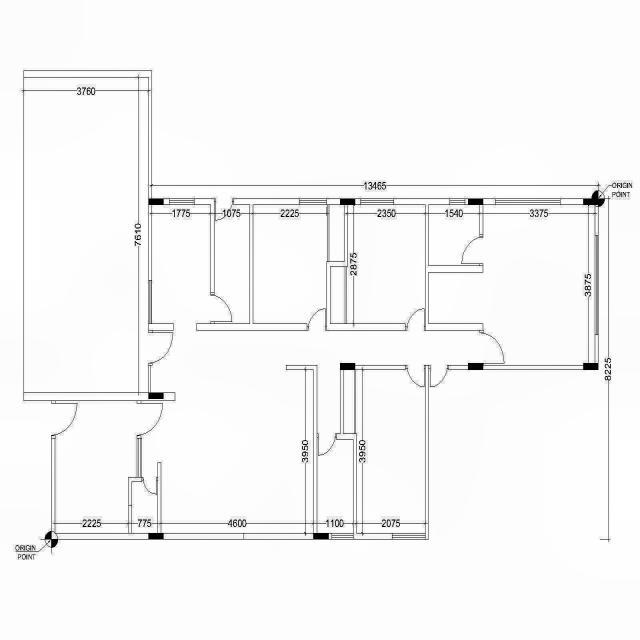Column: (313, 532, 329, 540), (148, 392, 164, 400), (583, 198, 598, 206), (148, 533, 164, 540), (468, 363, 483, 370), (340, 363, 355, 370), (584, 363, 598, 370), (148, 198, 164, 204), (468, 198, 483, 204), (340, 198, 355, 204)
Door: (50, 400, 78, 440), (136, 399, 164, 436), (478, 329, 506, 366), (148, 328, 175, 366), (461, 234, 484, 268), (210, 292, 233, 324), (306, 308, 328, 332), (213, 198, 235, 222), (404, 308, 426, 332), (404, 364, 426, 388), (428, 364, 450, 388), (316, 433, 338, 456), (140, 476, 158, 496)
Window: (494, 198, 562, 206), (594, 234, 599, 336), (391, 532, 427, 542), (136, 437, 142, 478), (360, 198, 394, 205), (298, 198, 328, 205), (330, 532, 354, 540), (148, 279, 152, 325), (168, 198, 194, 205), (449, 198, 466, 205)
